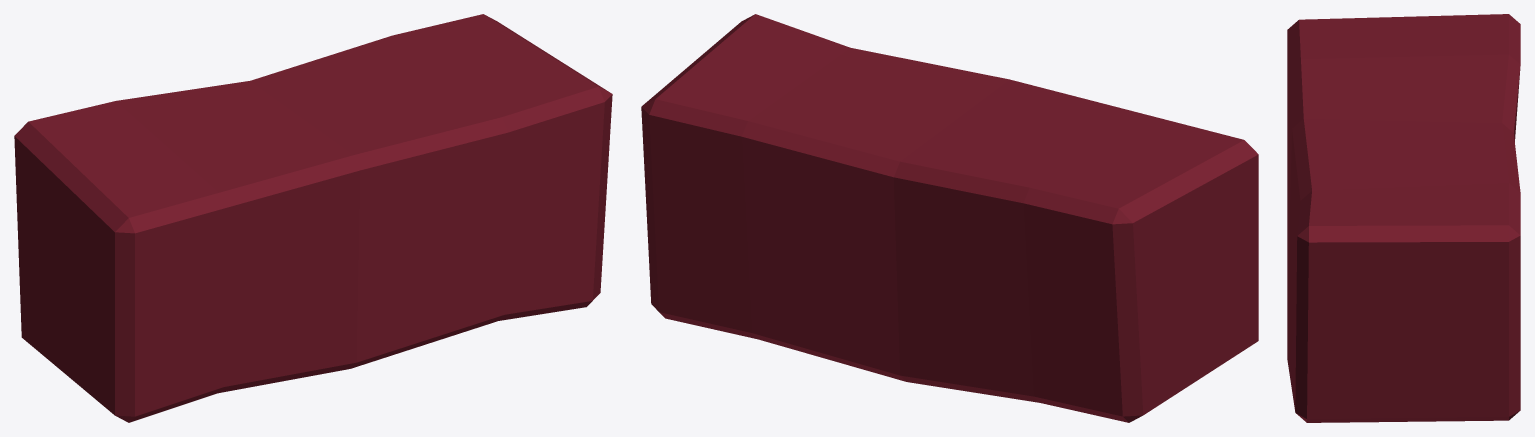
The model's file is bricks_002_ msh.fbx.
3 renders of one model, left to right at view 1: azimuth 30°, elevation 25°; view 2: azimuth 150°, elevation 25°; view 3: azimuth 270°, elevation 25°, orthographic. The views are drawn at different scales.
Visible parts, largest first — view 1: bricks_002_ msh; view 2: bricks_002_ msh; view 3: bricks_002_ msh.
Boxes of the visible parts, left/top/right/bottom form: bricks_002_ msh: left=14, top=14, right=612, bottom=422; bricks_002_ msh: left=641, top=14, right=1258, bottom=422; bricks_002_ msh: left=1287, top=14, right=1520, bottom=422.
Bounding box in the file's own units: 70 × 30 × 30.
